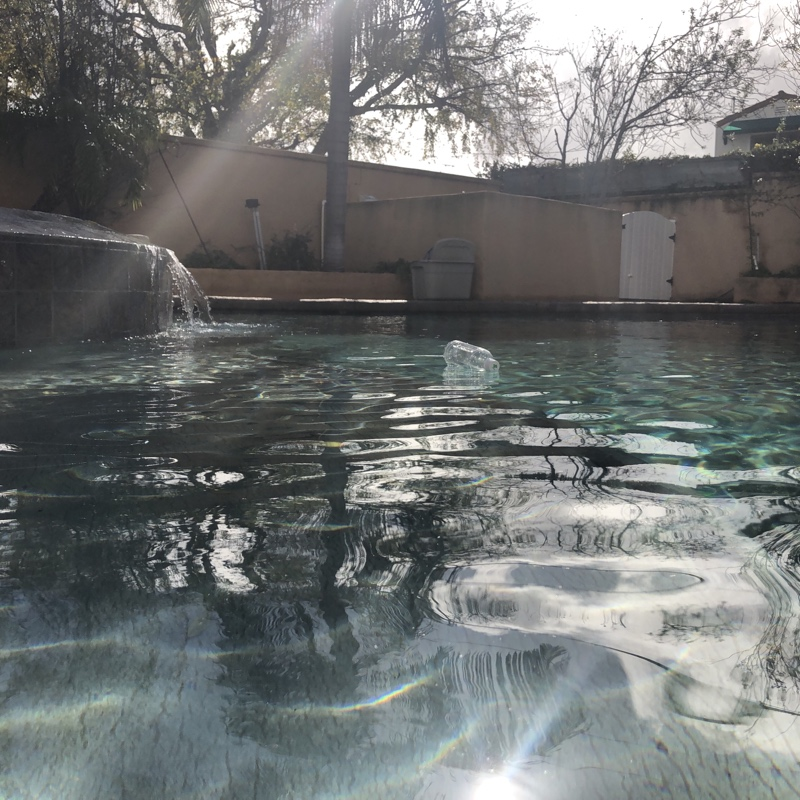Plastic Bottle: (438, 339, 502, 378)
